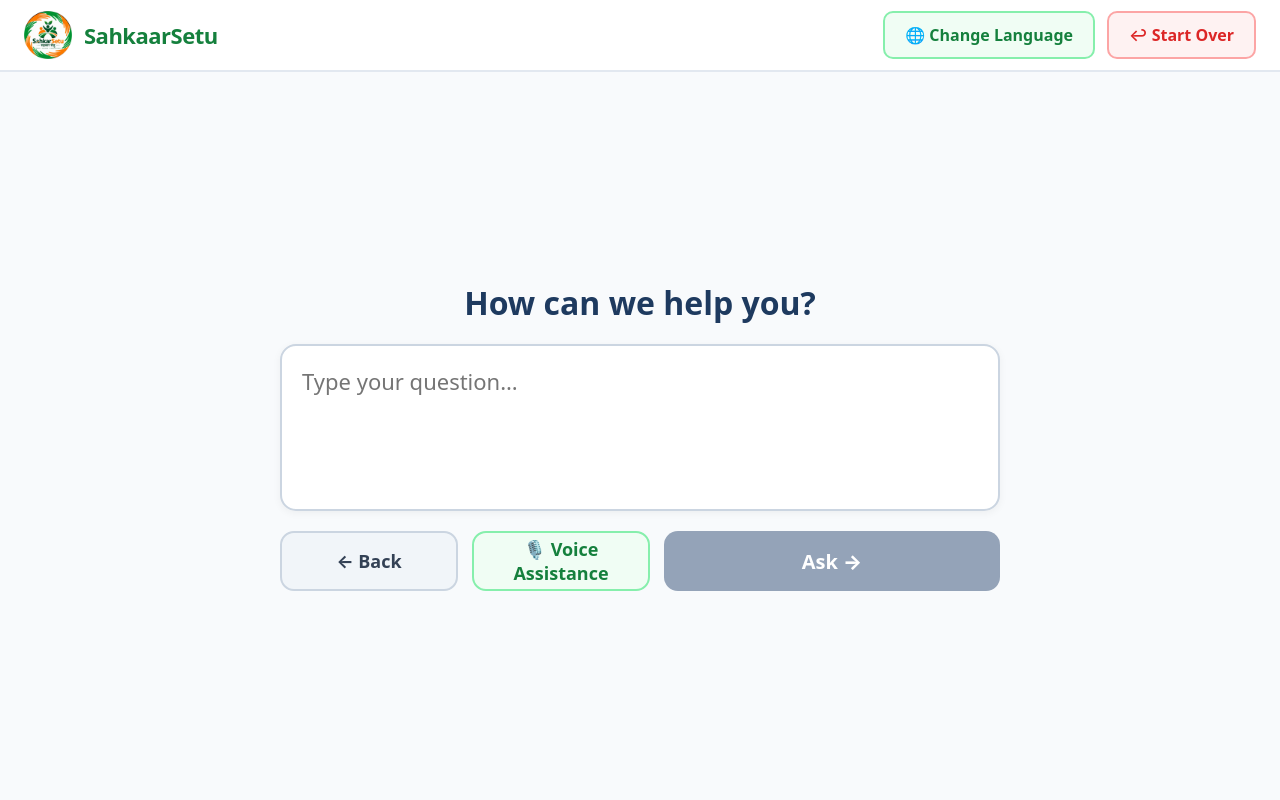
Scenario: K5: Text Query Interface & Pipeline › 7. renders "Finding your answer…" during query processing and sets activeOperation=true
Type "Fertilizer booking steps" into the text box with placeholder "Type your question…". click: (640, 428)
box: [280,344,1000,511]
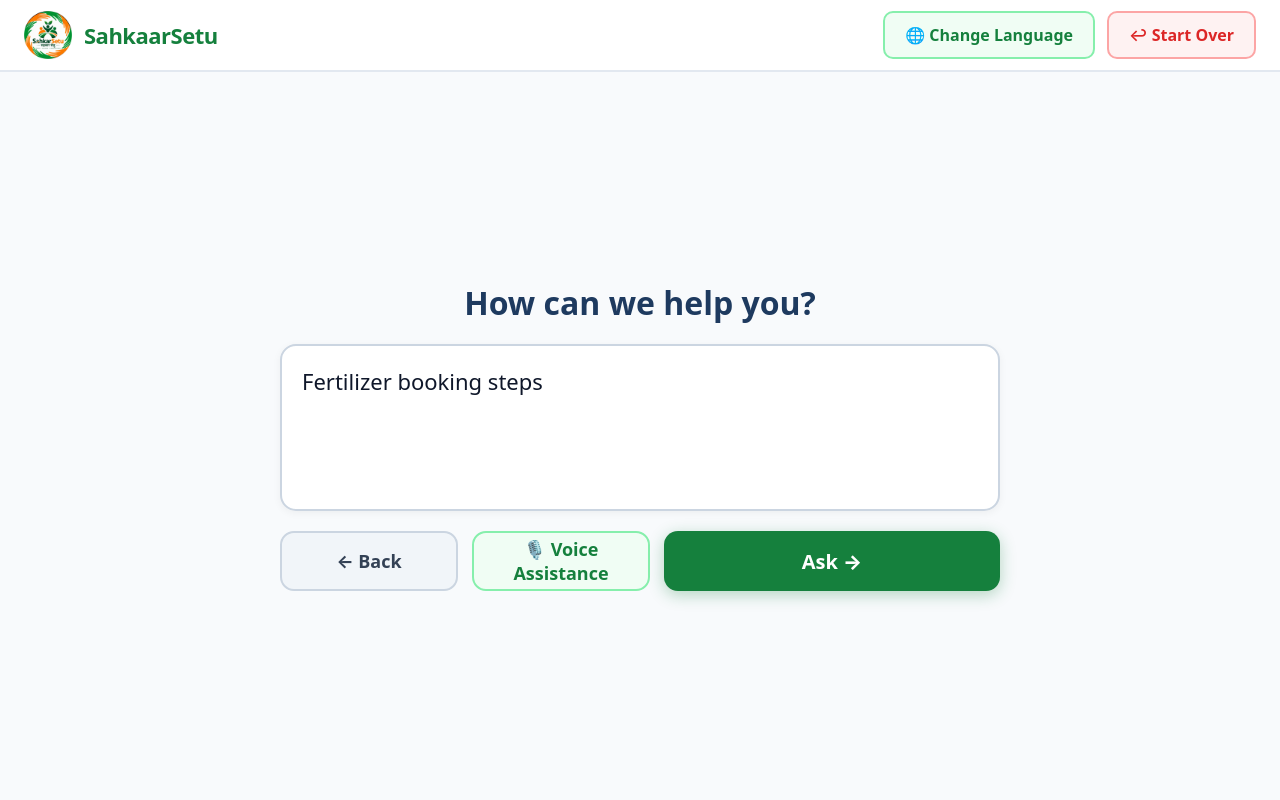
Click the button "Ask →". click: click(832, 561)
box: [664,531,1000,591]
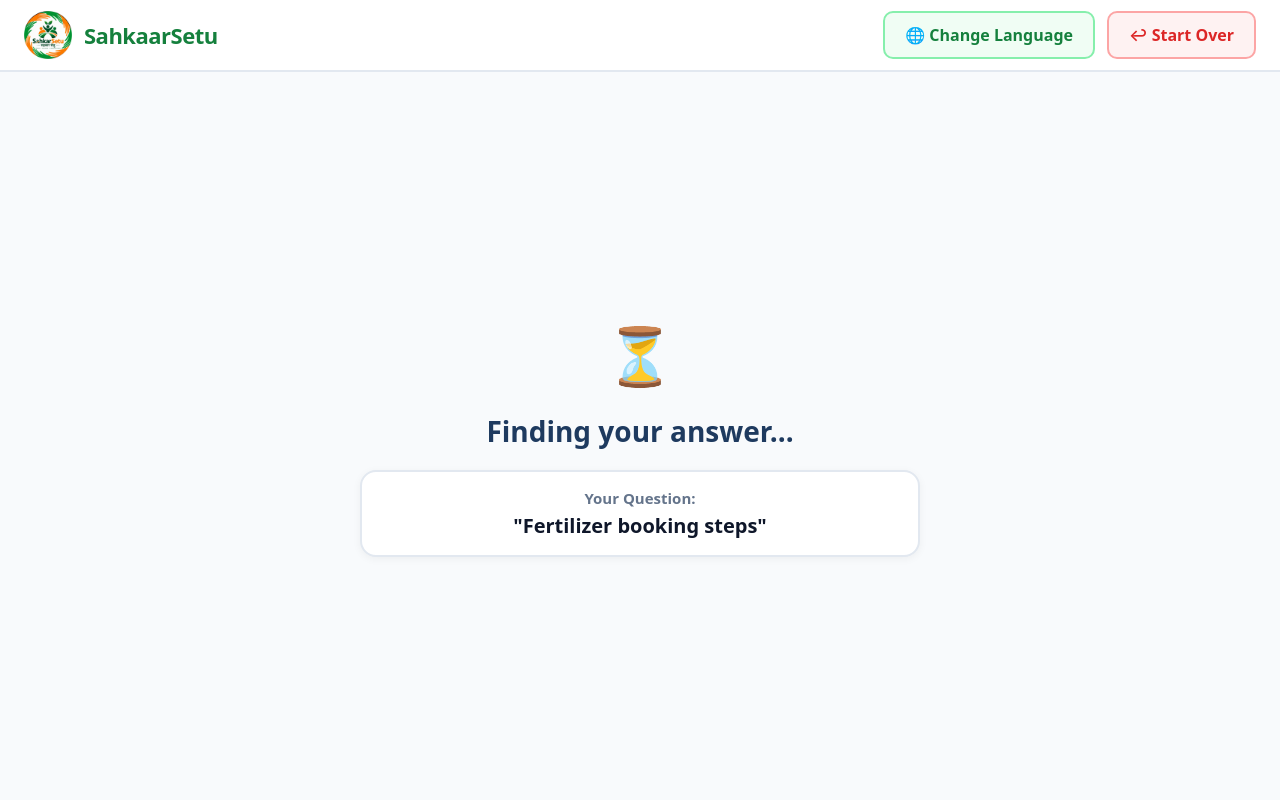
Check: the heading "Finding your answer…" is shown, box [486,412,794,450]
Check: the text "\"Fertilizer booking steps\"" is shown, box [513,512,767,538]
